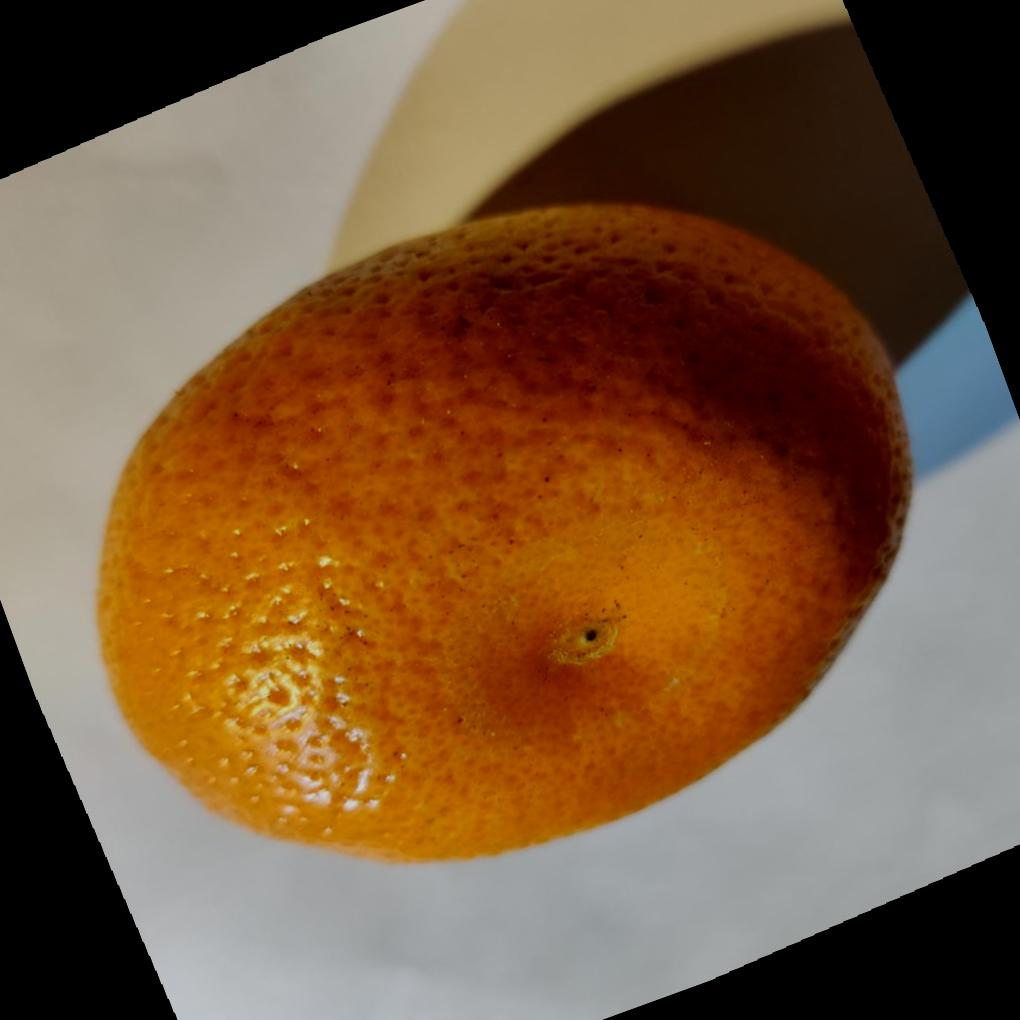FreshGuava: (95, 196, 919, 864)
